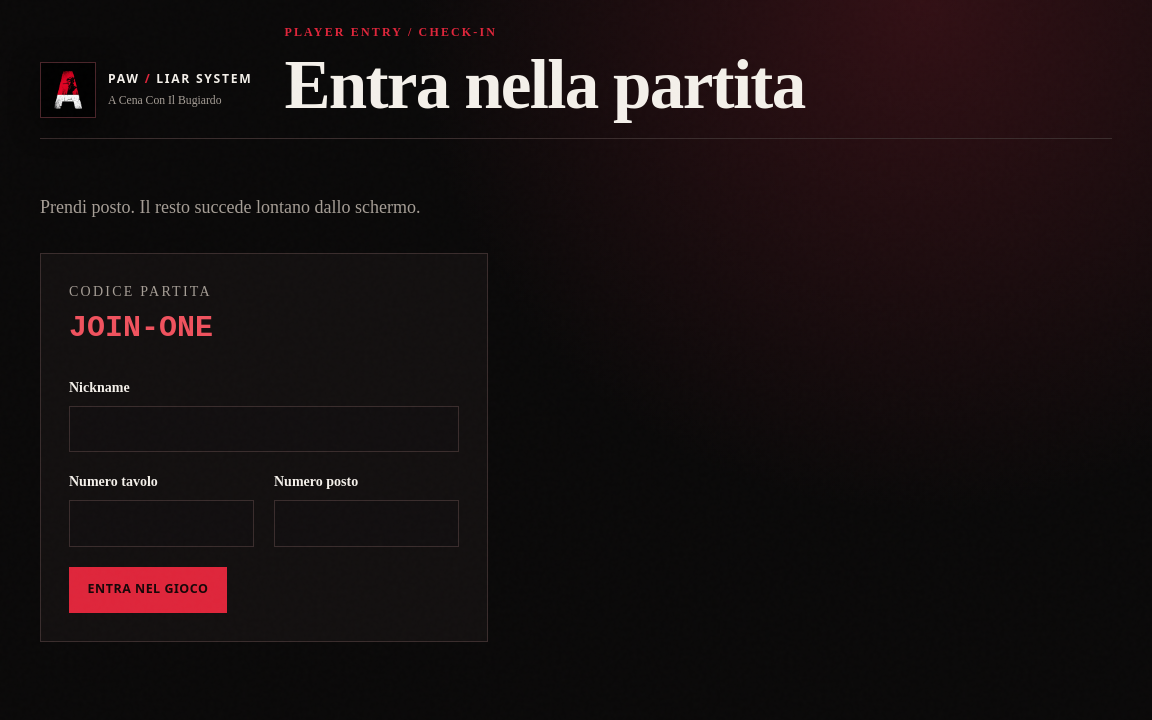
Test case: PlayerEntryPage › maps service errors and prevents duplicate submit while pending
This screenshot has width=1152, height=720.
In the field labelled "Nickname": {"x": 264, "y": 429} [69,406,459,452], type "Player"
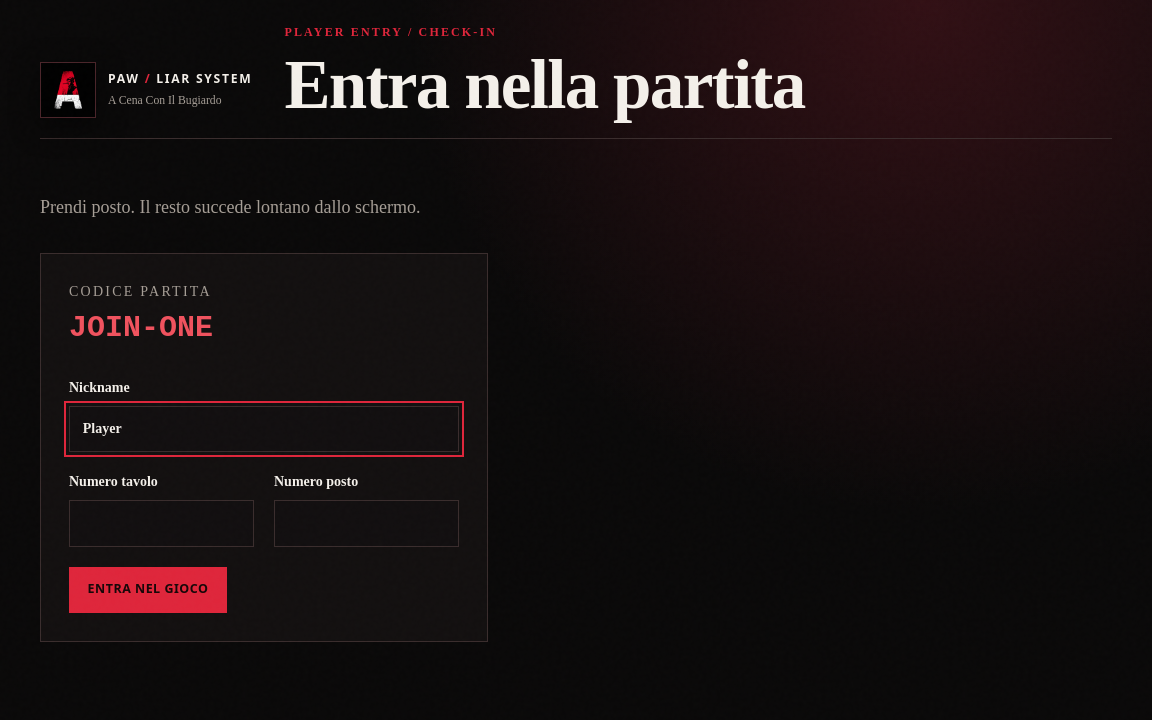
In the number field labelled "Numero tavolo": {"x": 162, "y": 523} [69,500,254,546], type "3"
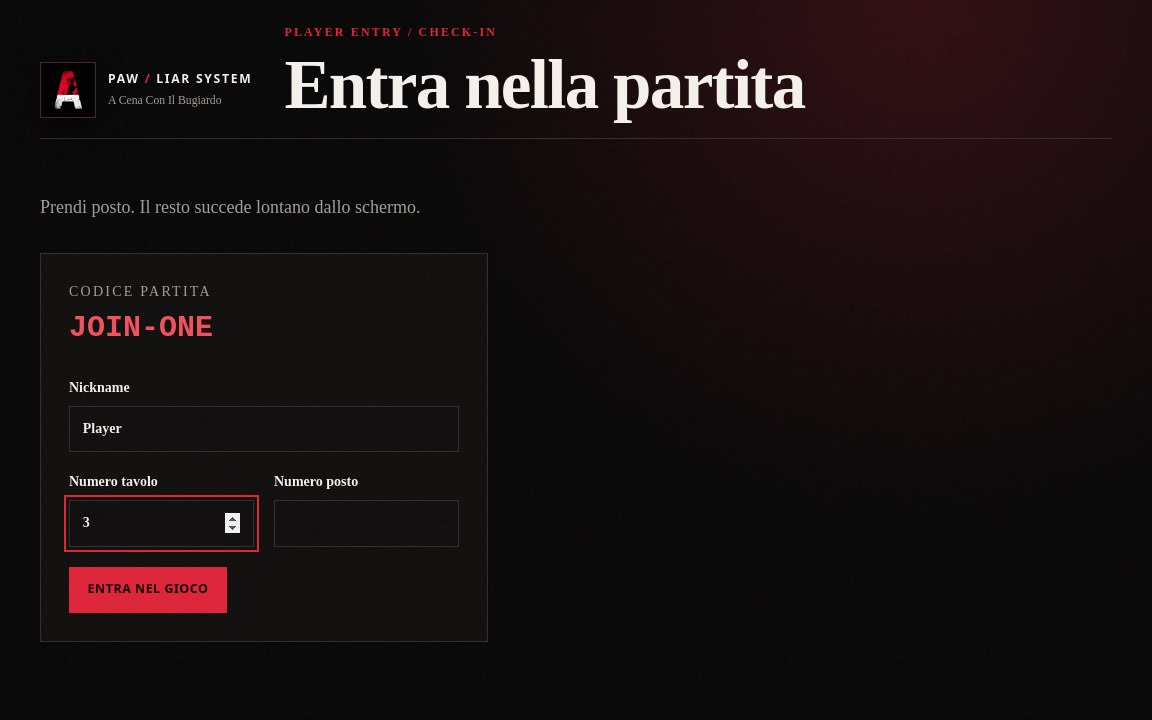
In the number field labelled "Numero posto": {"x": 366, "y": 523} [274,500,459,546], type "1"
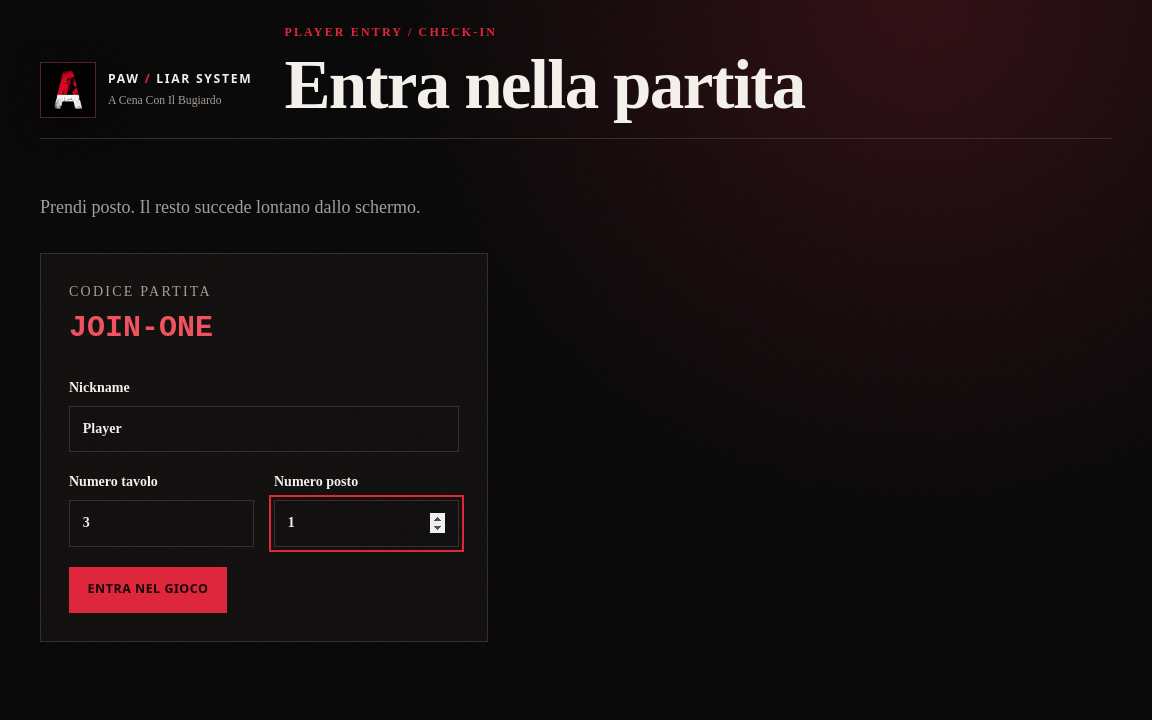
Click the button "Entra nel gioco": {"x": 148, "y": 590} [69,566,227,613]
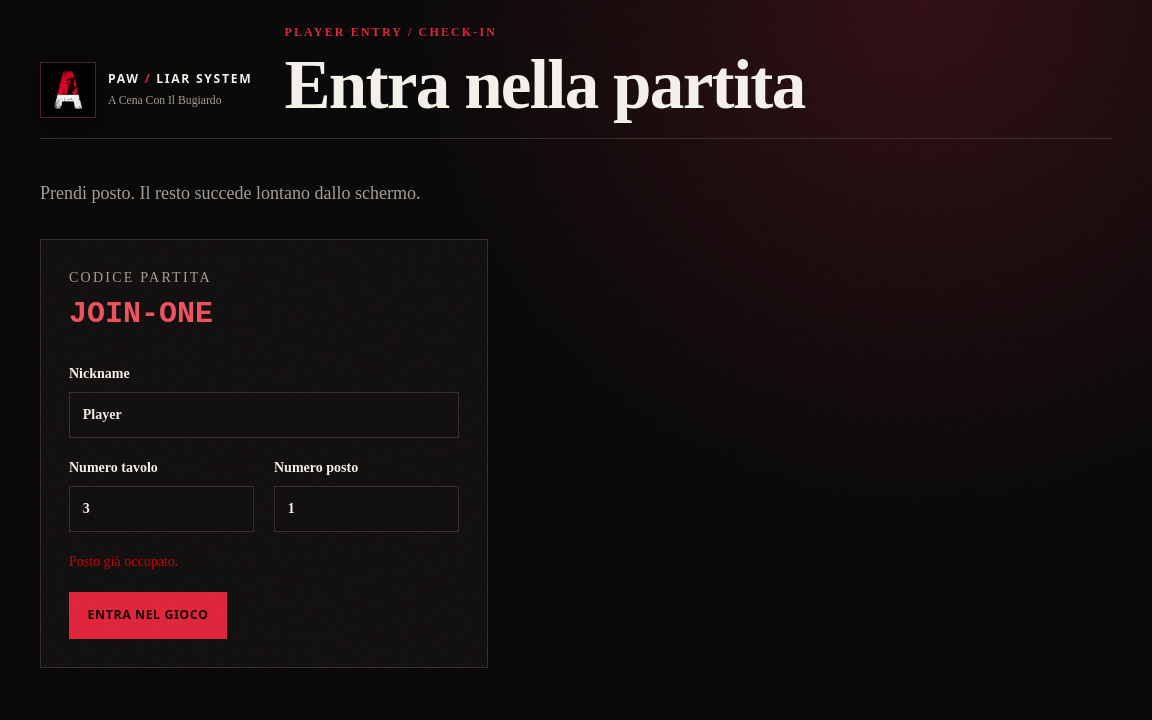
expect the message reads "Posto già occupato.": met, box [69,554,178,569]
